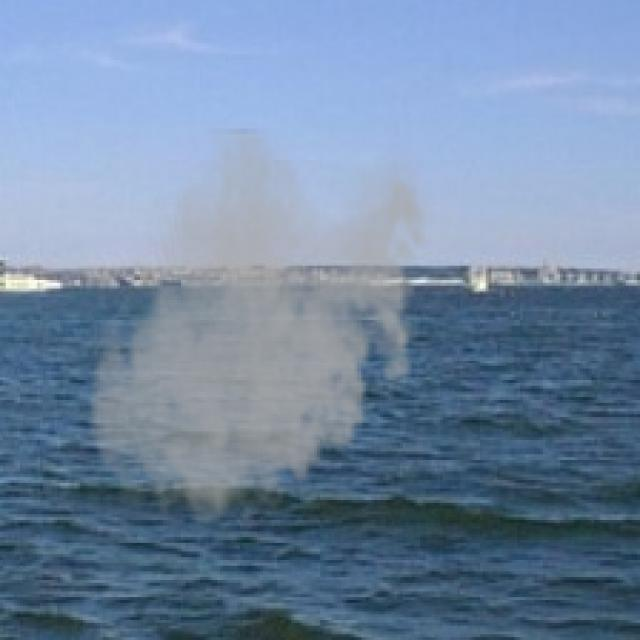smoke: (80, 129, 437, 537)
